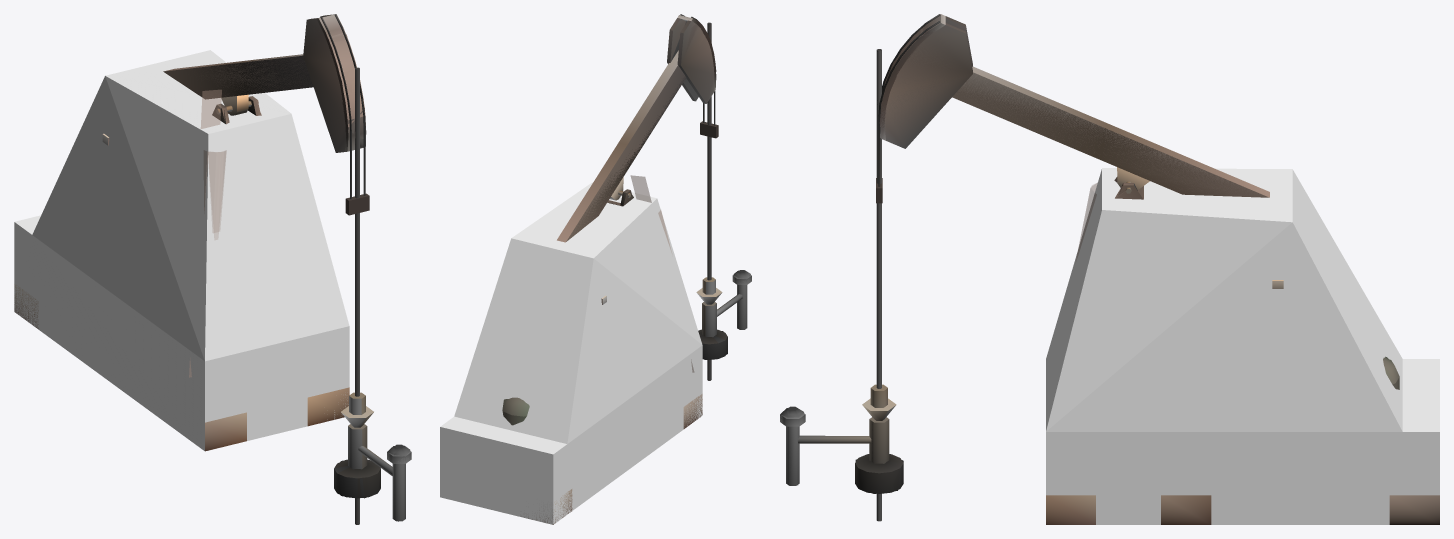
The model's file is industrial_pumpjack.dae.
3 renders of one model, left to right at view 1: azimuth 30°, elevation 25°; view 2: azimuth 150°, elevation 25°; view 3: azimuth 270°, elevation 25°, orthographic. The views are drawn at different scales.
Parts seen in each view (by area): view 1: Colmesh-1, industrial_pumpjack_a500, industrial_pumpjack_a200; view 2: Colmesh-1, industrial_pumpjack_a500, industrial_pumpjack_a200; view 3: Colmesh-1, industrial_pumpjack_a500, industrial_pumpjack_a200.
Part boxes in pixels (x1,y1,x2,y2): Colmesh-1: [14, 50, 349, 450]; industrial_pumpjack_a500: [14, 14, 411, 524]; industrial_pumpjack_a200: [15, 17, 410, 524]; Colmesh-1: [440, 182, 702, 524]; industrial_pumpjack_a500: [503, 14, 751, 517]; industrial_pumpjack_a200: [502, 19, 750, 524]; Colmesh-1: [1046, 168, 1439, 524]; industrial_pumpjack_a500: [780, 14, 1399, 521]; industrial_pumpjack_a200: [780, 18, 1439, 524].
Size of the model in its own units: 4.15 by 15.55 by 13.09.
